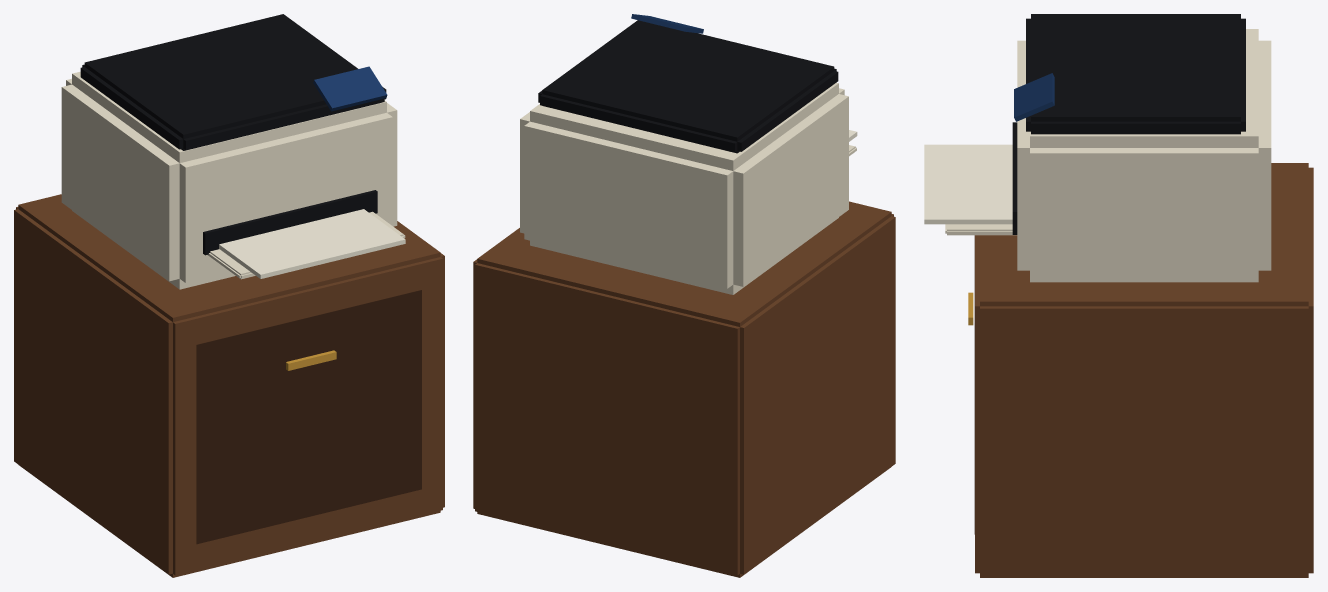
Rendered from printer.glb.
The picture shows the model from 3 angles, left to right: view 1: azimuth 30°, elevation 25°; view 2: azimuth 150°, elevation 25°; view 3: azimuth 270°, elevation 25°; orthographic projection. The views are drawn at different scales.
Visible parts, largest first — view 1: printer_wood, printer_wood_dark, printer_ivory, printer_dark, printer_paper, printer_screen; view 2: printer_wood, printer_ivory, printer_dark; view 3: printer_wood, printer_ivory, printer_dark, printer_paper, printer_screen.
Boxes of the visible parts, left/top/right/bottom form: printer_wood: left=14, top=194, right=444, bottom=577; printer_wood_dark: left=196, top=290, right=421, bottom=544; printer_ivory: left=61, top=71, right=405, bottom=289; printer_dark: left=80, top=14, right=386, bottom=255; printer_paper: left=219, top=209, right=405, bottom=278; printer_screen: left=313, top=66, right=387, bottom=111; printer_wood: left=473, top=201, right=895, bottom=577; printer_ivory: left=520, top=82, right=856, bottom=294; printer_dark: left=538, top=20, right=838, bottom=153; printer_wood: left=975, top=163, right=1313, bottom=577; printer_ivory: left=945, top=29, right=1271, bottom=282; printer_dark: left=1012, top=14, right=1245, bottom=234; printer_paper: left=924, top=144, right=1012, bottom=224; printer_screen: left=1014, top=73, right=1054, bottom=121.
Size of the model in its own units: 0.8 by 1.19 by 0.92.
